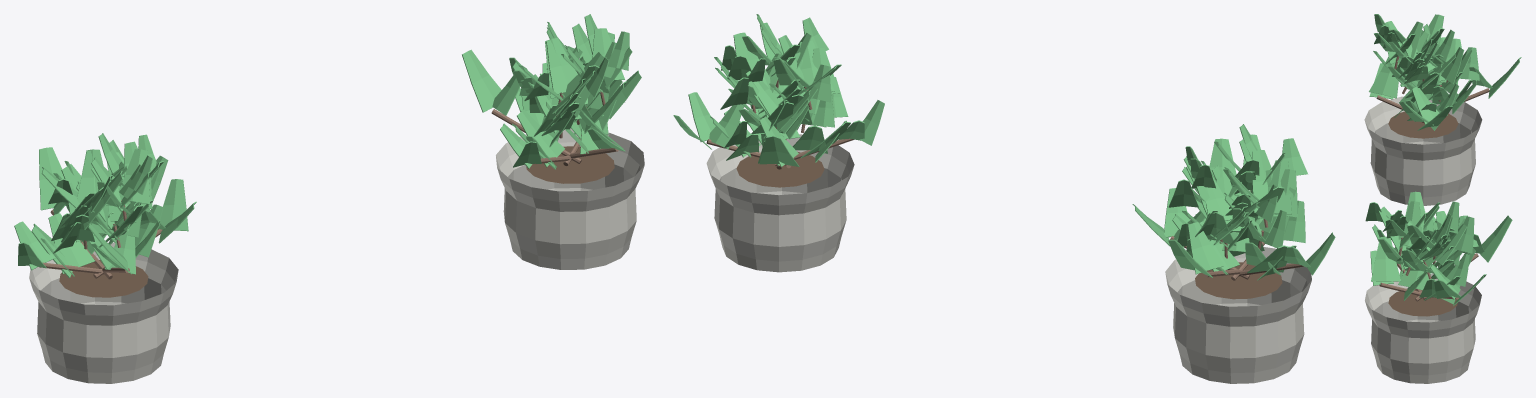
Rendered from GameScene.glb.
The picture shows the model from 3 angles, left to right: view 1: azimuth 30°, elevation 25°; view 2: azimuth 150°, elevation 25°; view 3: azimuth 270°, elevation 25°; orthographic projection. The views are drawn at different scales.
Visible parts, largest first — view 1: PottedPlant, PottedPlant_Instance2; view 2: PottedPlant, PottedPlant_Instance2; view 3: PottedPlant_Instance2, PottedPlant.
Part boxes in pixels (x1,y1,x2,y2): PottedPlant: (14,133,196,383); PottedPlant_Instance2: (462,14,644,269); PottedPlant: (1132,124,1335,383); PottedPlant_Instance2: (673,14,884,272); PottedPlant_Instance2: (1365,191,1512,383); PottedPlant: (1364,14,1521,205).
Size of what is drawn, in the model's own units: 2.74 by 0.8857 by 0.7462.
